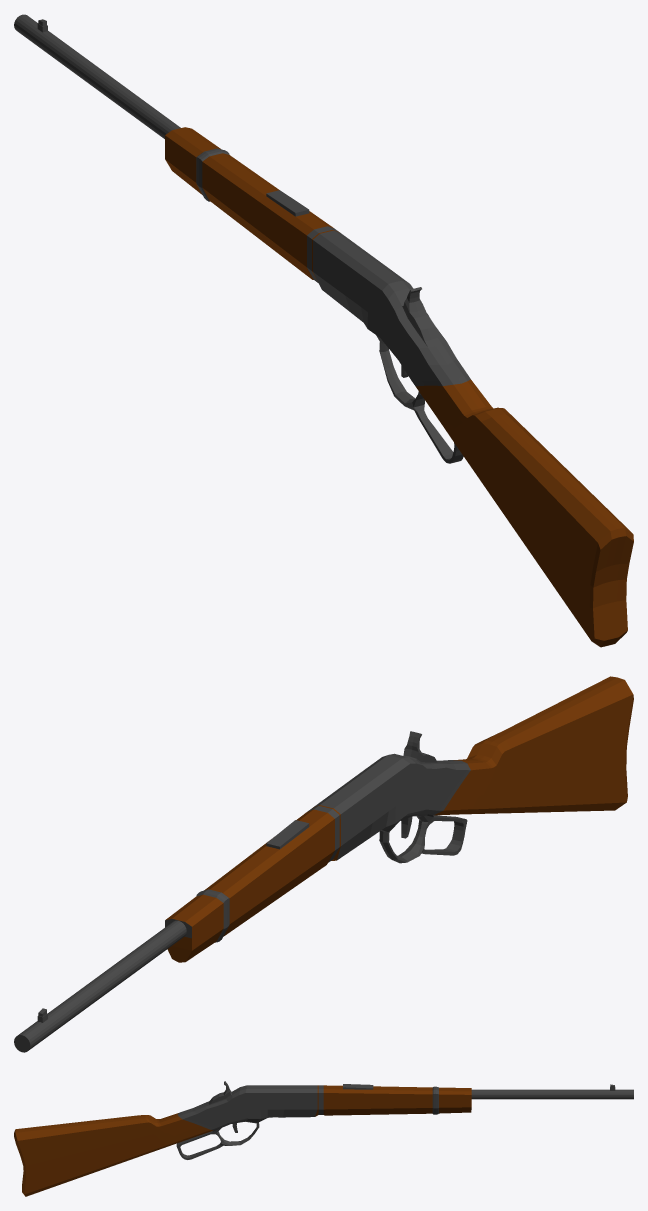
The model's file is Winchester Rifle.fbx.
3 renders of one model, top to bottom at view 1: azimuth 30°, elevation 25°; view 2: azimuth 150°, elevation 25°; view 3: azimuth 270°, elevation 25°, orthographic. The views are drawn at different scales.
Visible parts, largest first — view 1: Gun Winchester; view 2: Gun Winchester; view 3: Gun Winchester.
Boxes of the visible parts, x1,y1,x2,y2 form: Gun Winchester: [14, 14, 633, 647]; Gun Winchester: [14, 676, 633, 1052]; Gun Winchester: [14, 1081, 633, 1196].
Bounding box in the file's own units: 20.29 × 119 × 592.
